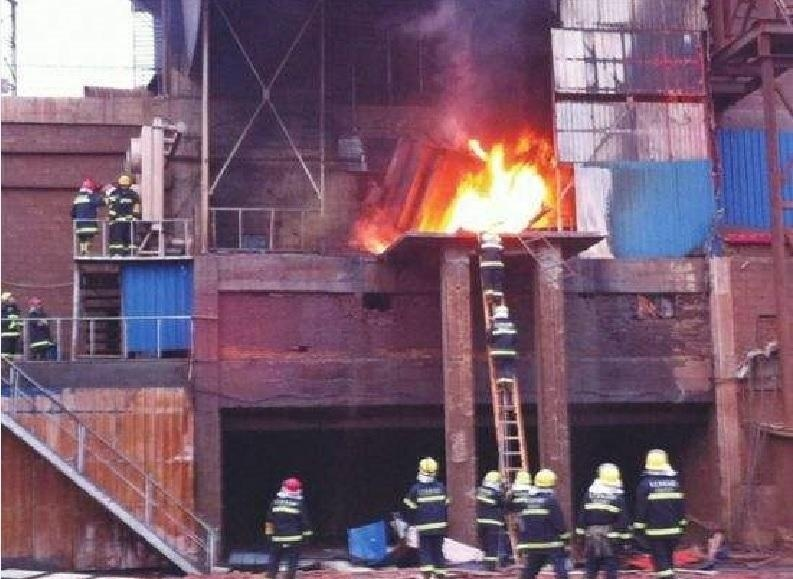fire: (423, 133, 561, 239)
